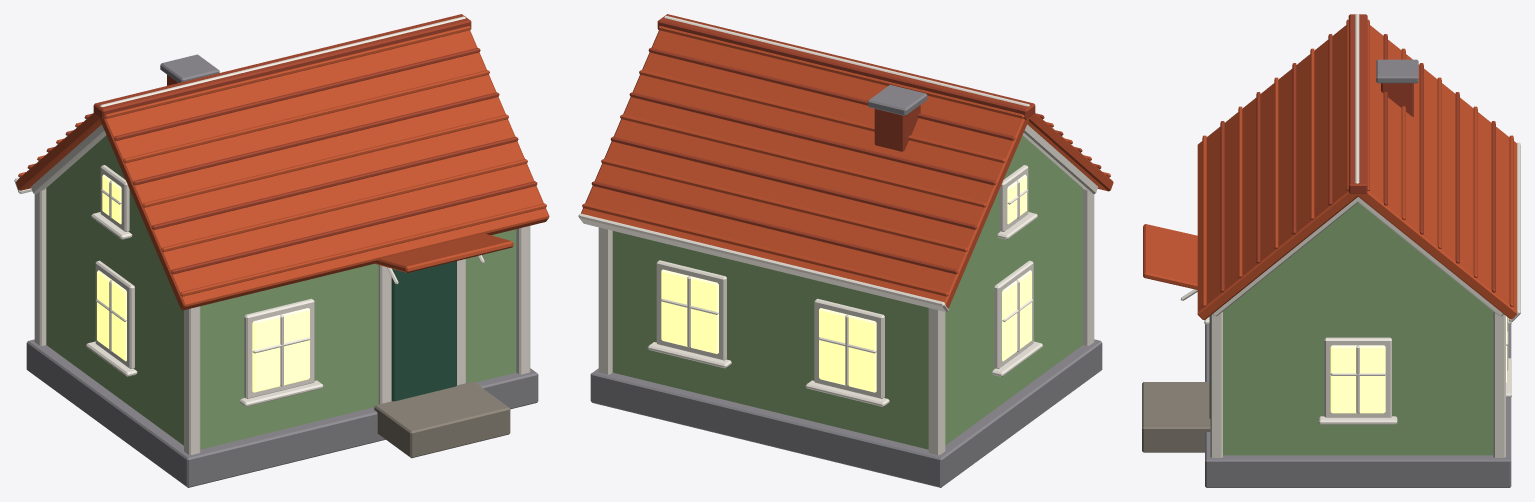
File: gronstuga.glb
The picture shows the model from 3 angles, left to right: view 1: azimuth 30°, elevation 25°; view 2: azimuth 150°, elevation 25°; view 3: azimuth 270°, elevation 25°; orthographic projection. The views are drawn at different scales.
Parts seen in each view (by area): view 1: gronstuga; view 2: gronstuga; view 3: gronstuga.
Part boxes in pixels (left/top/right/bottom): gronstuga: left=14, top=14, right=549, bottom=487; gronstuga: left=578, top=14, right=1113, bottom=487; gronstuga: left=1142, top=14, right=1520, bottom=487.
Bounding box in the file's own units: 5.15 × 4.34 × 4.82.
